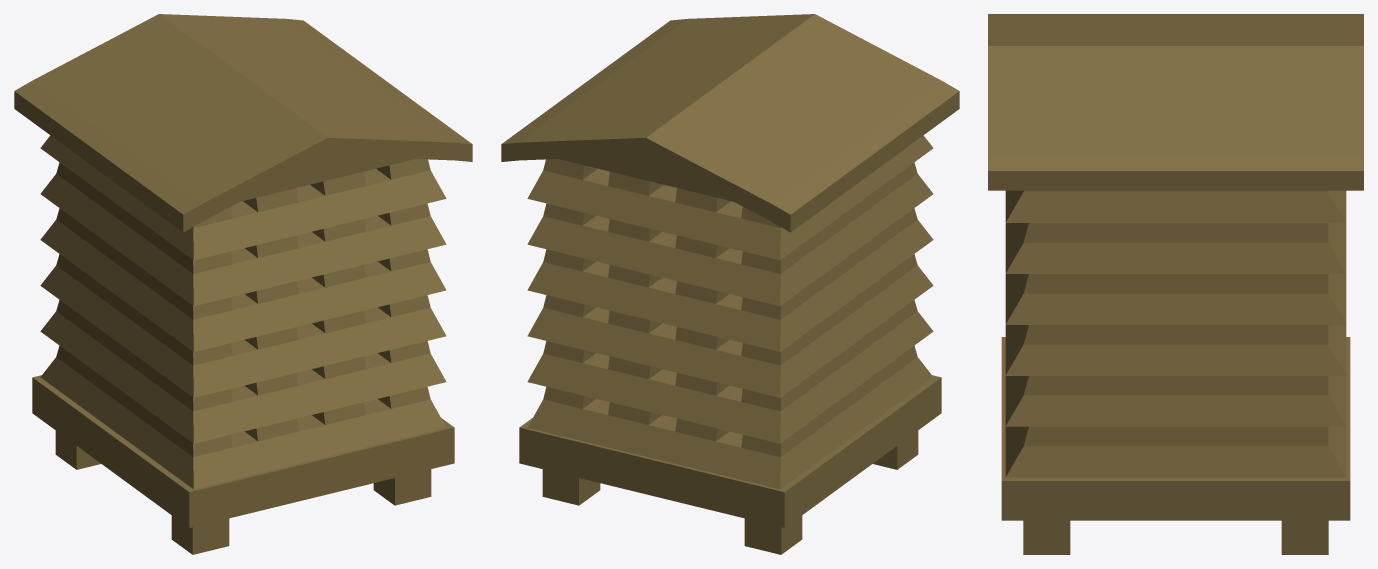
Rendered from Beehive.fbx.
3 renders of one model, left to right at view 1: azimuth 30°, elevation 25°; view 2: azimuth 150°, elevation 25°; view 3: azimuth 270°, elevation 25°, orthographic. The views are drawn at different scales.
Parts seen in each view (by area): view 1: Box, Roof, Base, Feet; view 2: Box, Roof, Base, Feet; view 3: Box, Roof, Base, Feet.
Boxes of the visible parts, bbox=[...] form: Box: bbox=[40, 135, 446, 489]; Roof: bbox=[14, 14, 472, 232]; Base: bbox=[32, 375, 454, 527]; Feet: bbox=[55, 430, 431, 554]; Box: bbox=[527, 135, 933, 489]; Roof: bbox=[501, 14, 959, 232]; Base: bbox=[519, 375, 941, 527]; Feet: bbox=[542, 430, 918, 554]; Box: bbox=[1005, 190, 1346, 477]; Roof: bbox=[988, 14, 1363, 190]; Base: bbox=[1001, 337, 1350, 520]; Feet: bbox=[1023, 520, 1328, 554].
Bounding box in the file's own units: 218 × 288 × 220.
